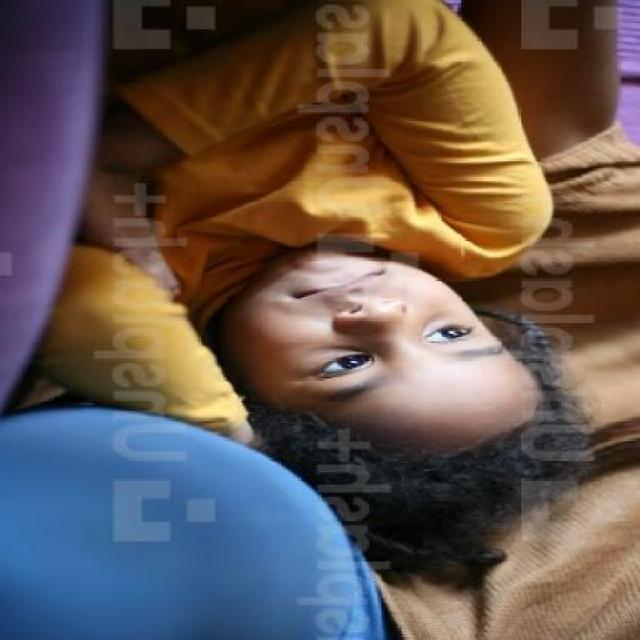baby: (43, 2, 562, 540)
